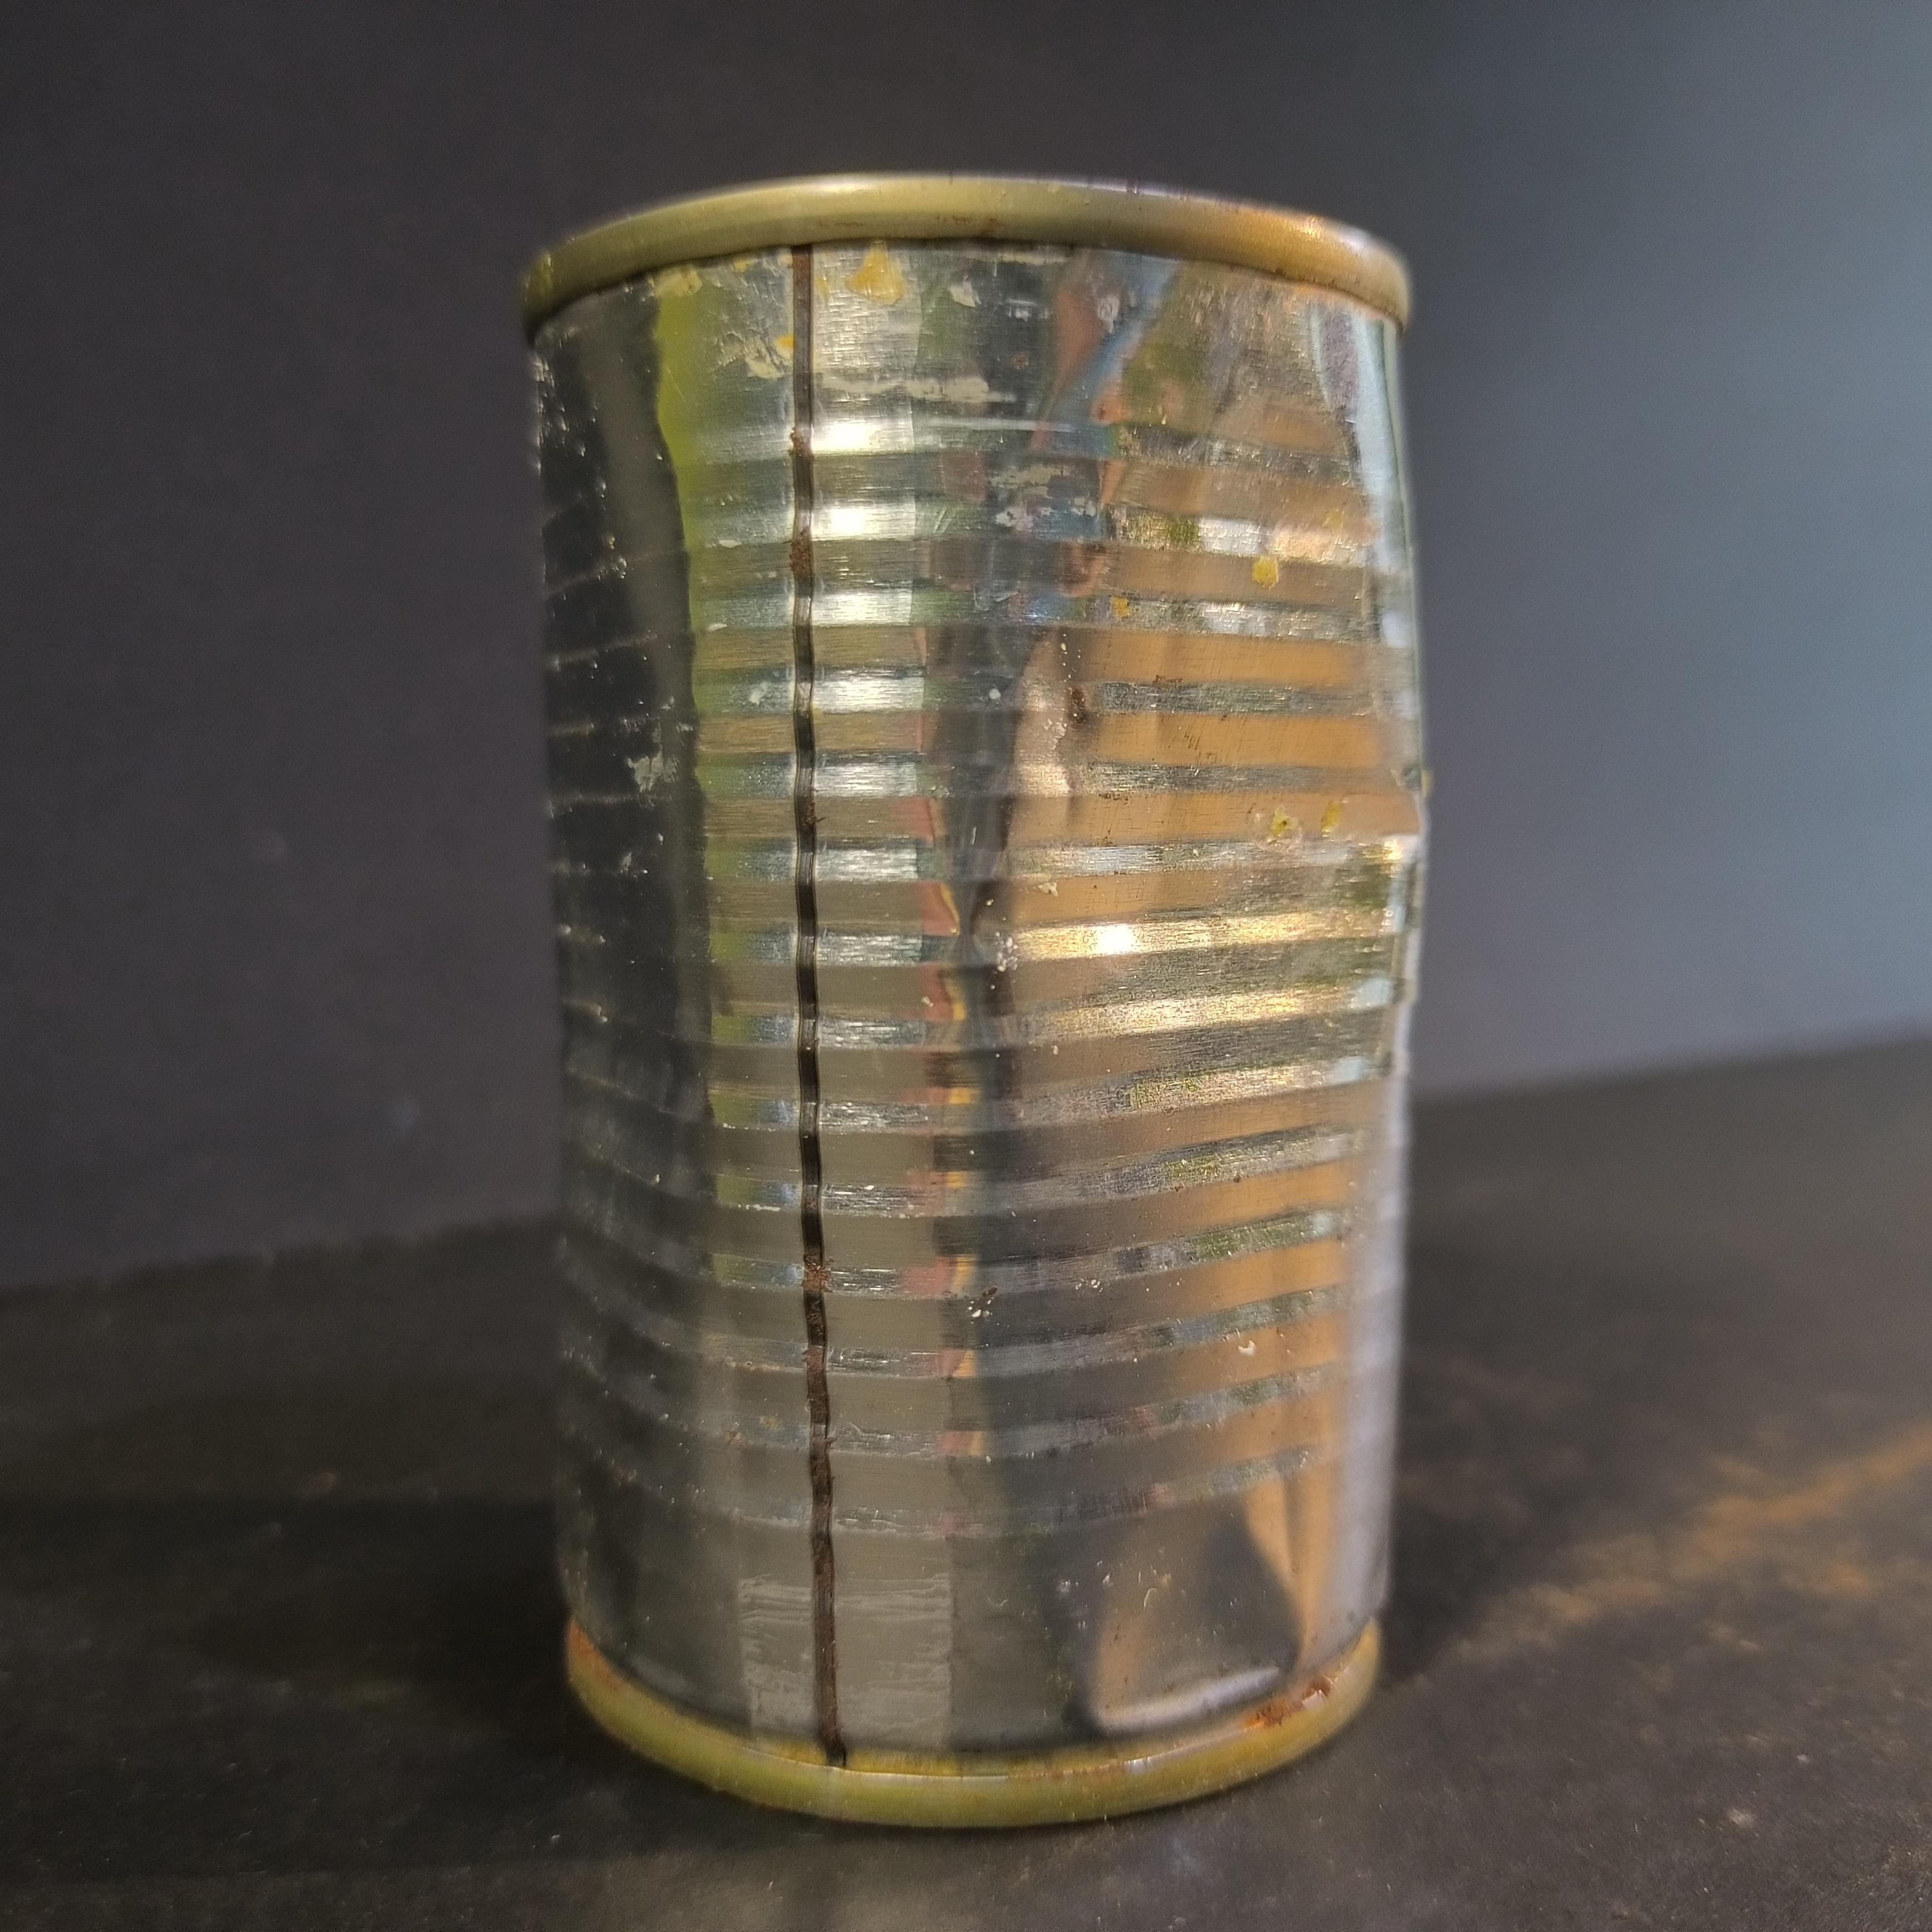Dented: (433, 140, 1472, 1838)
